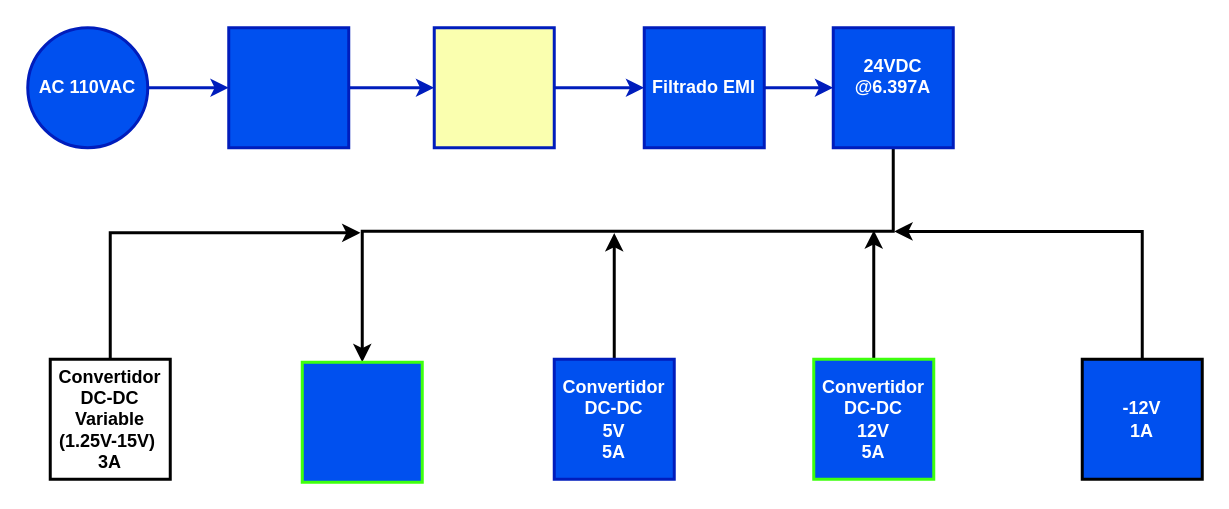
Image size: 1229x509. Some labels were removed from this diagram. Each missing label, with the box of its shape:
Convertidor DC-DC 3.3V 3A: (300, 360, 423, 483)
Rectificador AC-DC: (432, 26, 555, 148)
Trafo 18V@10A: (226, 26, 350, 148)
